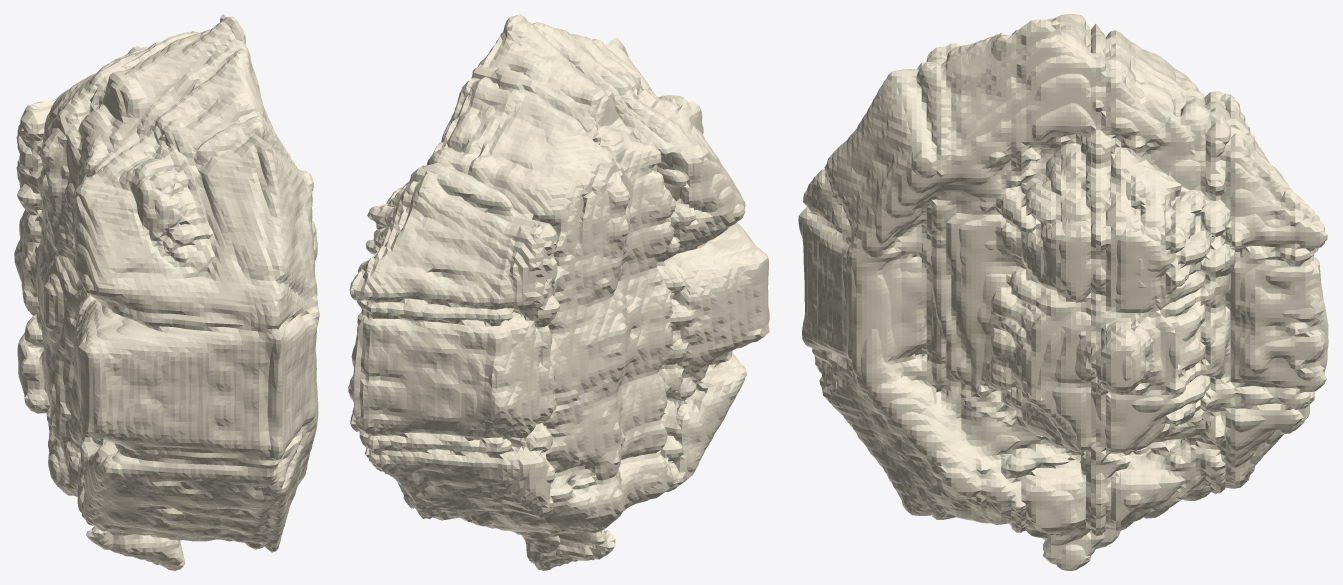
File: raw.glb
The picture shows the model from 3 angles, left to right: view 1: azimuth 30°, elevation 25°; view 2: azimuth 150°, elevation 25°; view 3: azimuth 270°, elevation 25°; orthographic projection. The views are drawn at different scales.
Visible parts, largest first — view 1: world; view 2: world; view 3: world.
Part boxes in pixels (x1,y1,x2,y2): world: (14, 14, 319, 570); world: (348, 14, 769, 570); world: (798, 14, 1328, 570).
Size of the model in its own units: 1.32 by 2.14 by 1.79.
